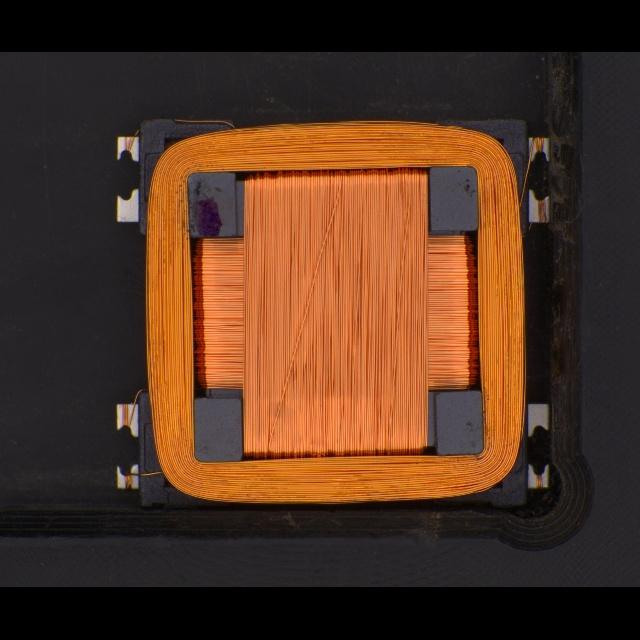Winding_Z: (130, 117, 529, 506)
